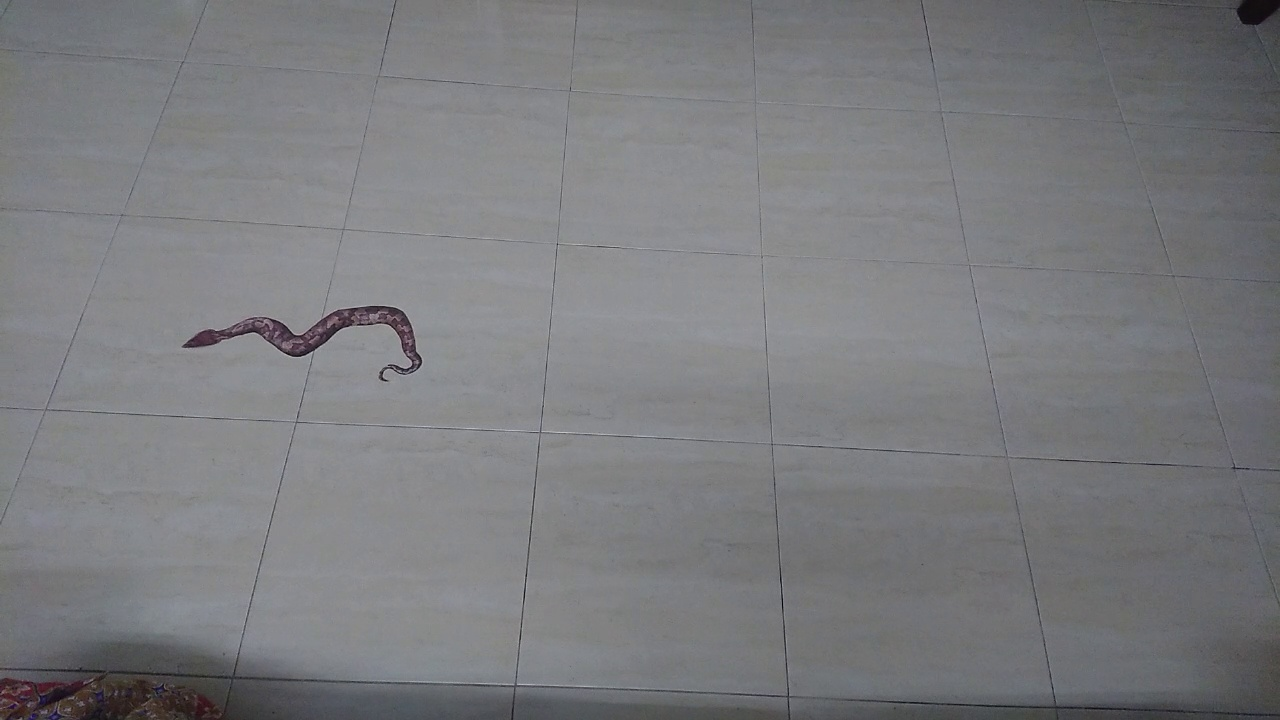snake: (169, 288, 433, 391)
